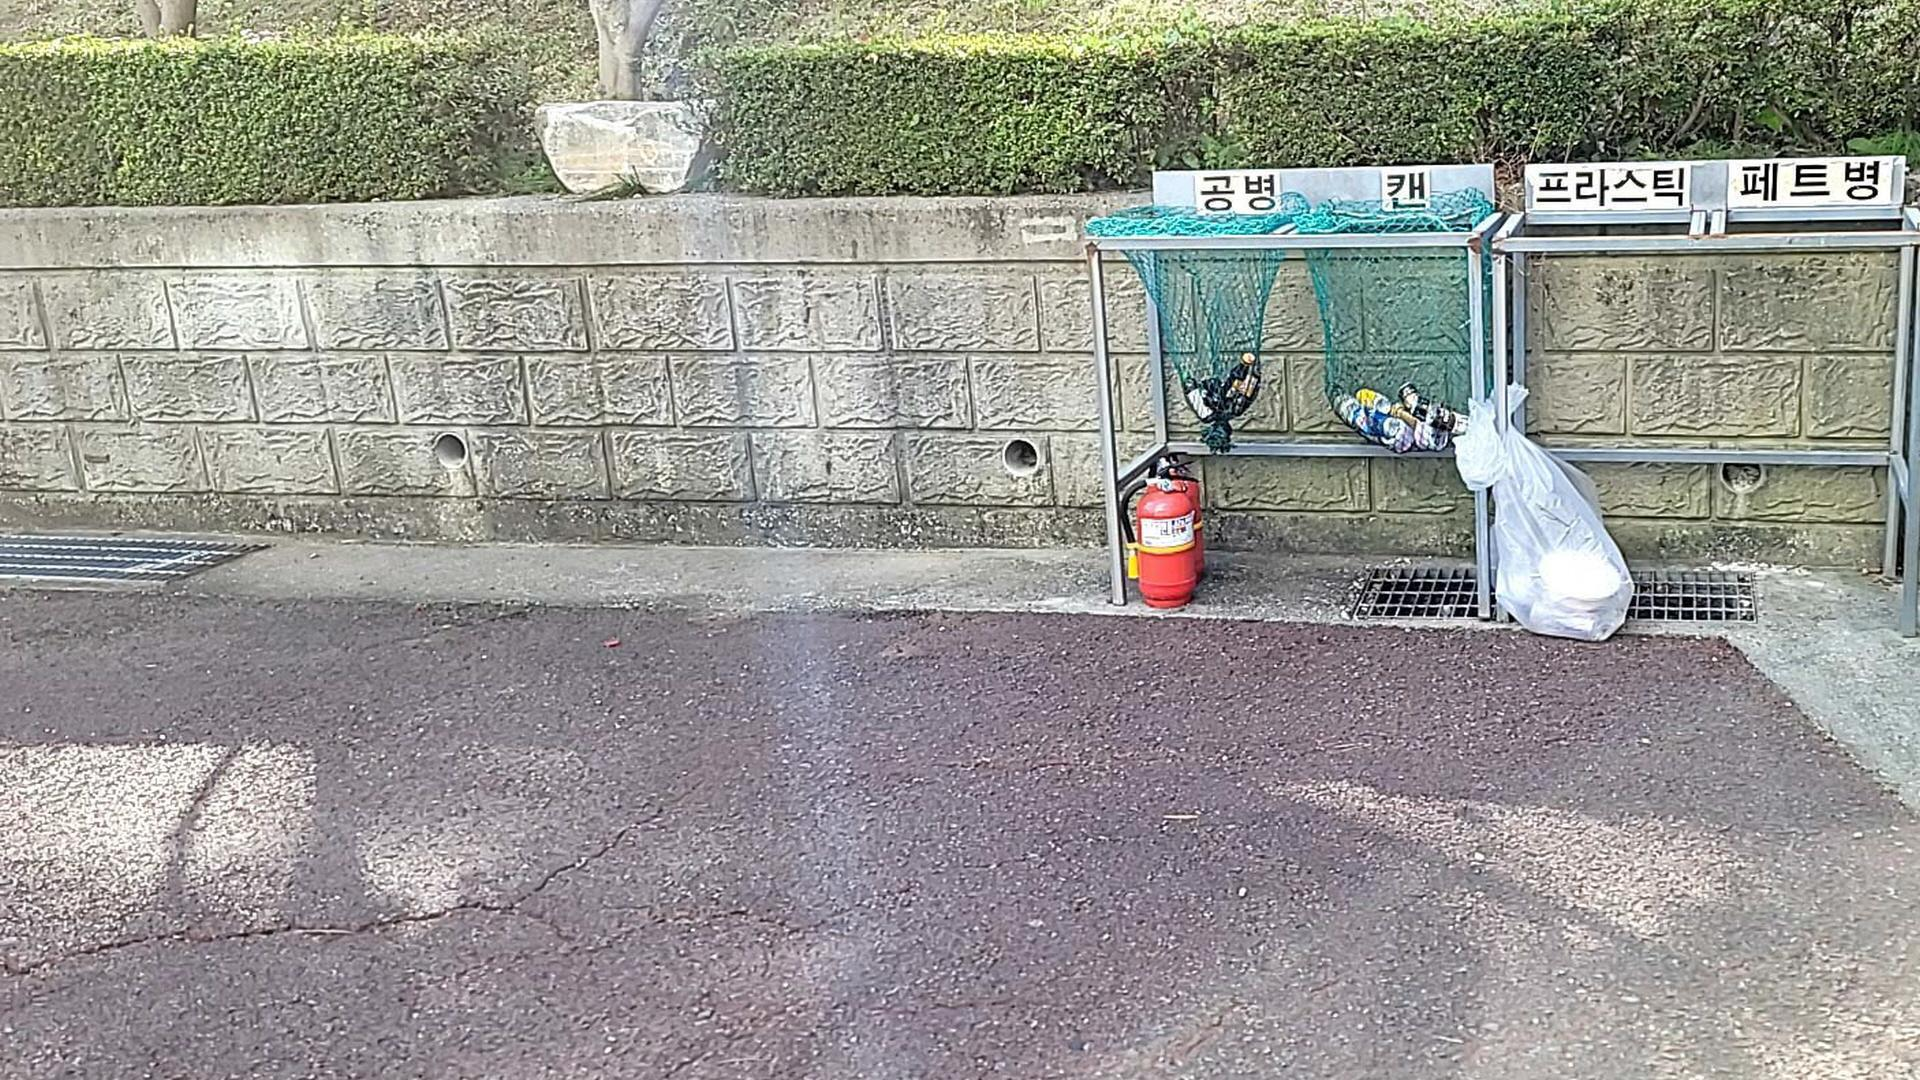white_bag: (1444, 375, 1646, 661)
